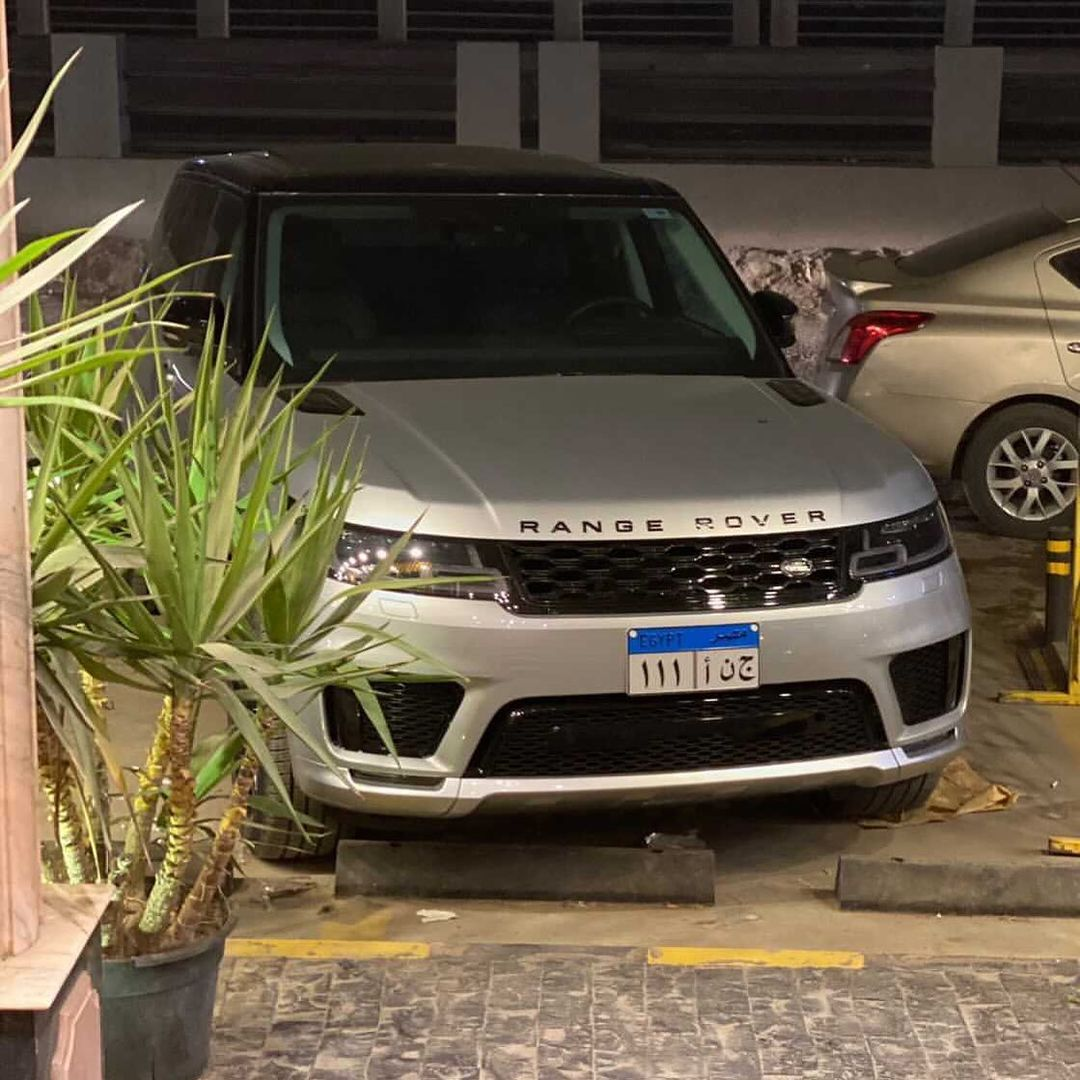carpl: (622, 626, 766, 694)
